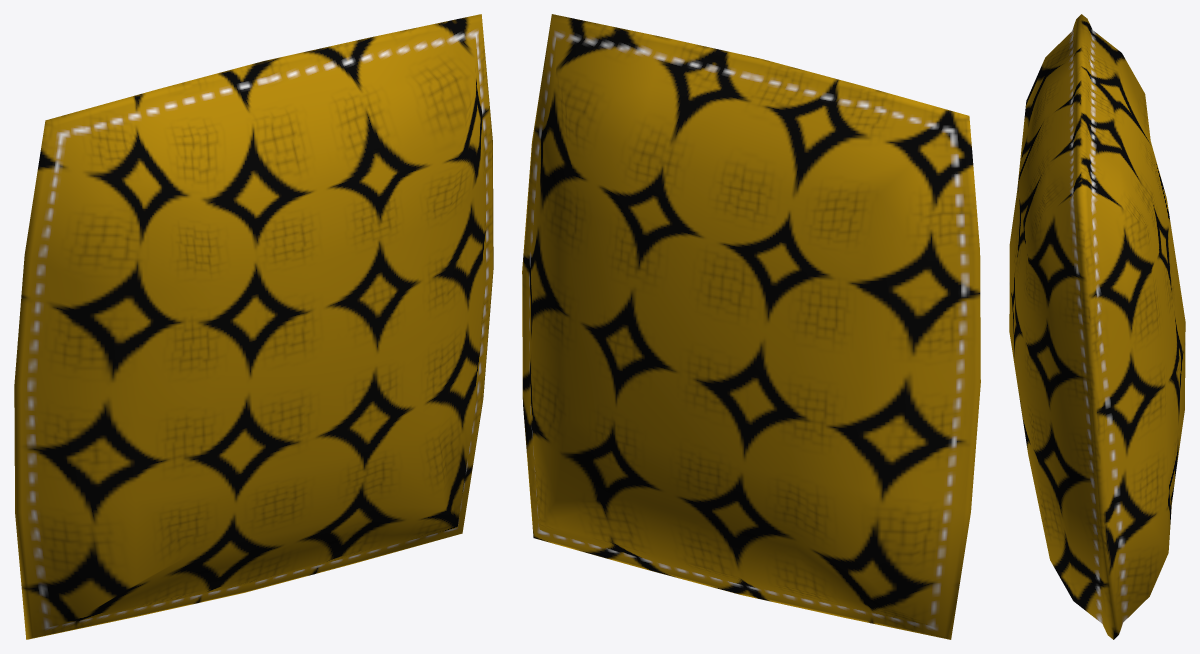
The model's file is bag.fbx.
3 renders of one model, left to right at view 1: azimuth 30°, elevation 25°; view 2: azimuth 150°, elevation 25°; view 3: azimuth 270°, elevation 25°, orthographic. The views are drawn at different scales.
Visible parts, largest first — view 1: sandbag_geo1; view 2: sandbag_geo1; view 3: sandbag_geo1.
Part boxes in pixels (left/top/right/bottom): sandbag_geo1: left=14, top=14, right=493, bottom=639; sandbag_geo1: left=522, top=14, right=980, bottom=639; sandbag_geo1: left=1009, top=14, right=1185, bottom=639.
Size of the model in its own units: 5.55 by 6.05 by 2.11.
